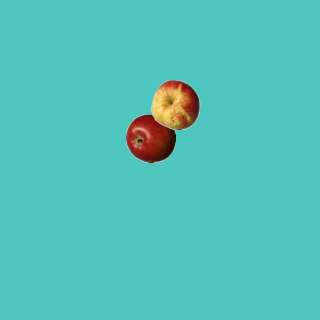Apple Braeburn: (125, 113, 175, 163)
Apple Red Yellow 1: (150, 79, 200, 129)
